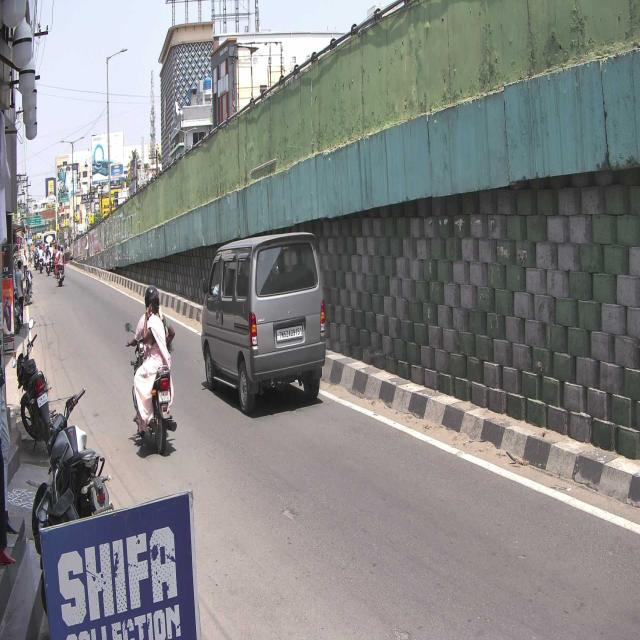double_rider: (123, 282, 179, 458)
